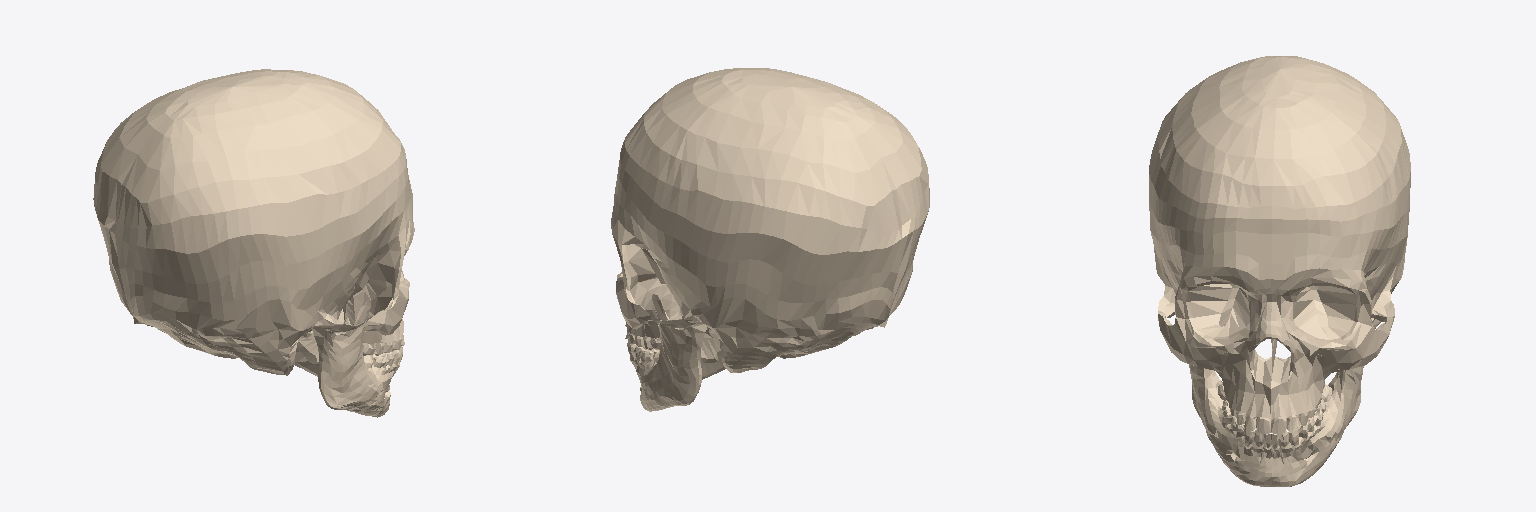
File: skullEnemy.obj
3 views of the same model, side by side, from view 1: azimuth 30°, elevation 25°; view 2: azimuth 150°, elevation 25°; view 3: azimuth 270°, elevation 25° (orthographic).
Parts seen in each view (by area): view 1: skull2; view 2: skull2; view 3: skull2.
Part boxes in pixels (bbox=[...]): skull2: bbox=[93, 69, 414, 417]; skull2: bbox=[611, 68, 929, 411]; skull2: bbox=[1149, 56, 1410, 486].
Bounding box in the file's own units: 1.26 × 1.46 × 0.9928.